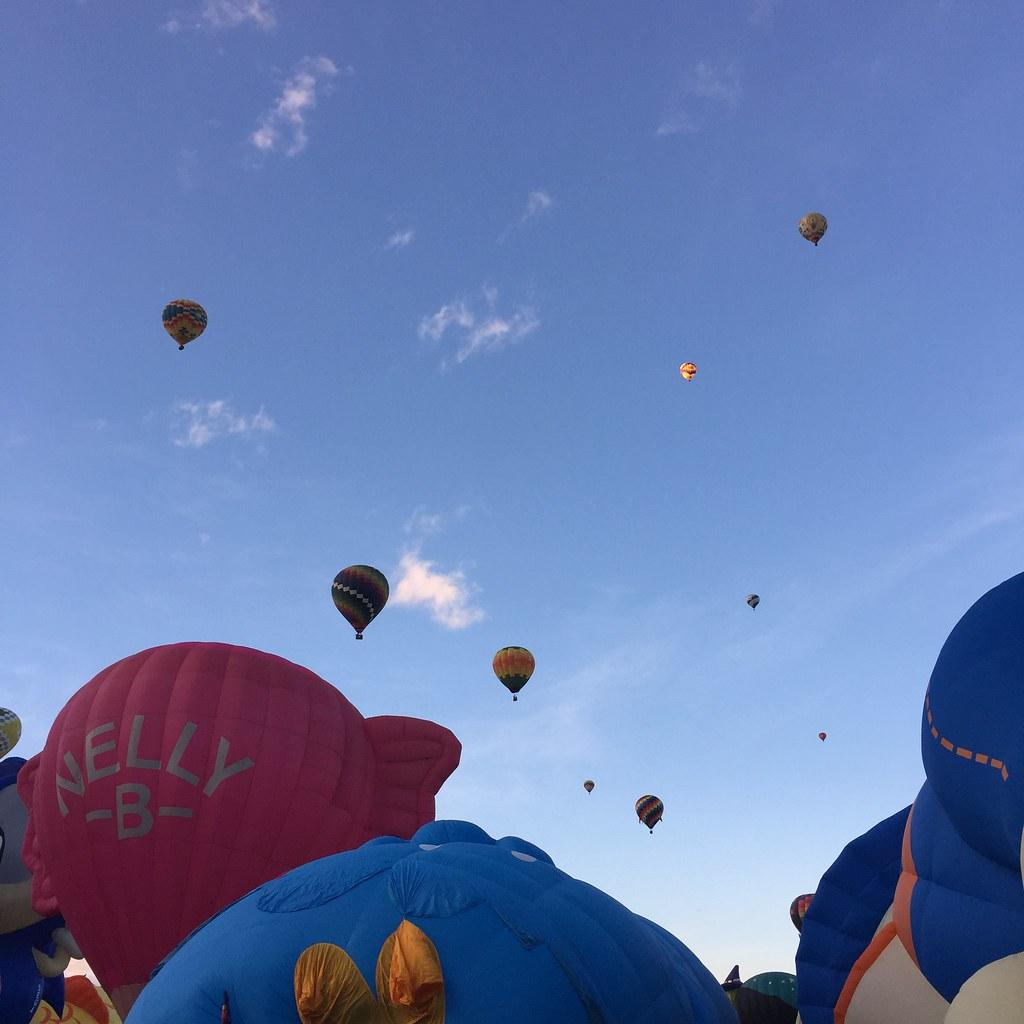balloon: (119, 821, 741, 1024), (34, 639, 379, 999), (329, 559, 399, 646), (729, 959, 809, 1024), (156, 294, 216, 364), (496, 641, 544, 704), (634, 789, 669, 841), (799, 209, 831, 259), (676, 356, 699, 394), (744, 589, 764, 614), (581, 776, 596, 796)
